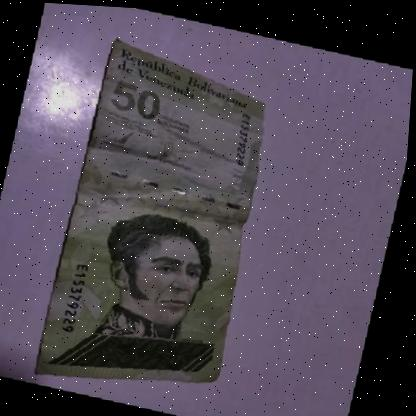fifty-front-vef: (38, 32, 277, 399)
